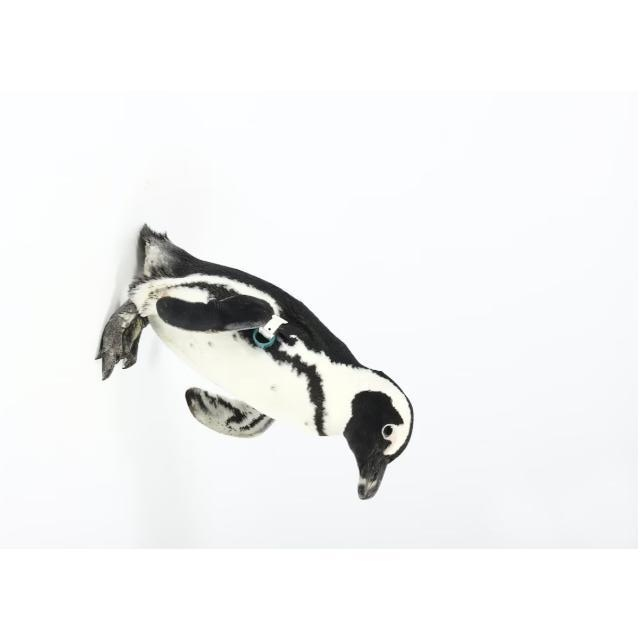penguin: (93, 223, 413, 501)
